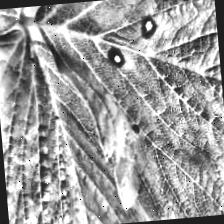Leaf Spot: (32, 0, 224, 224), (0, 6, 166, 224)
